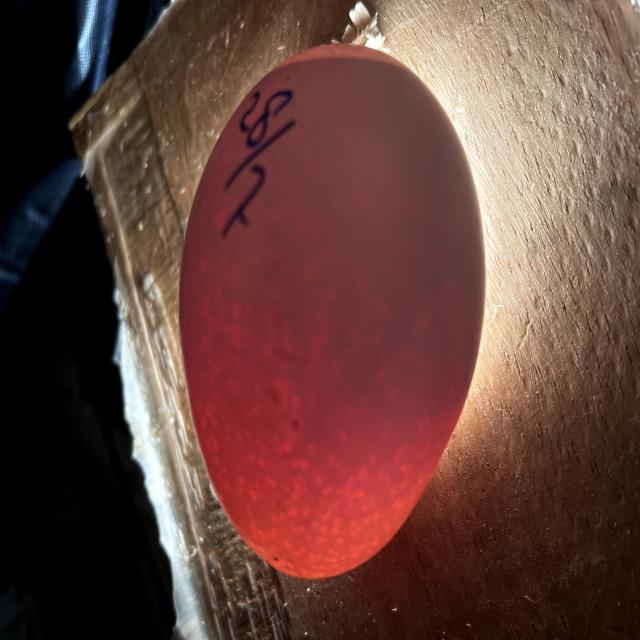fertile: (180, 45, 485, 577)
